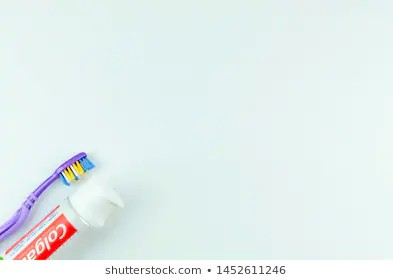toothbrush: (22, 143, 101, 210)
